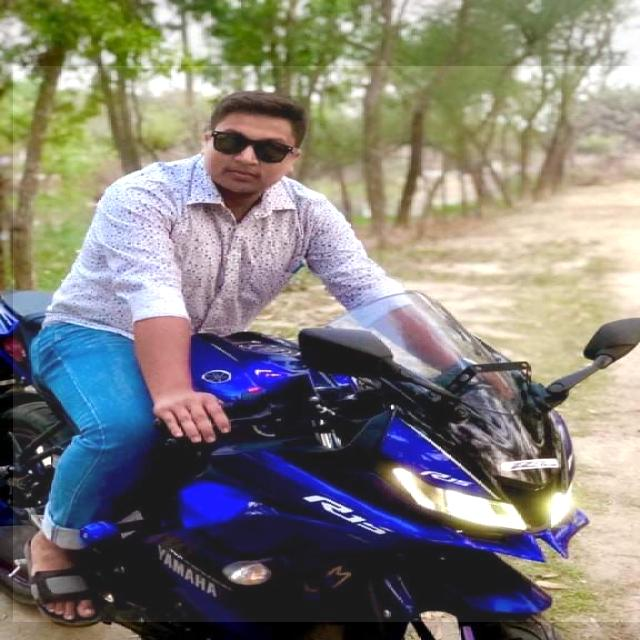Bike: (13, 67, 640, 622)
